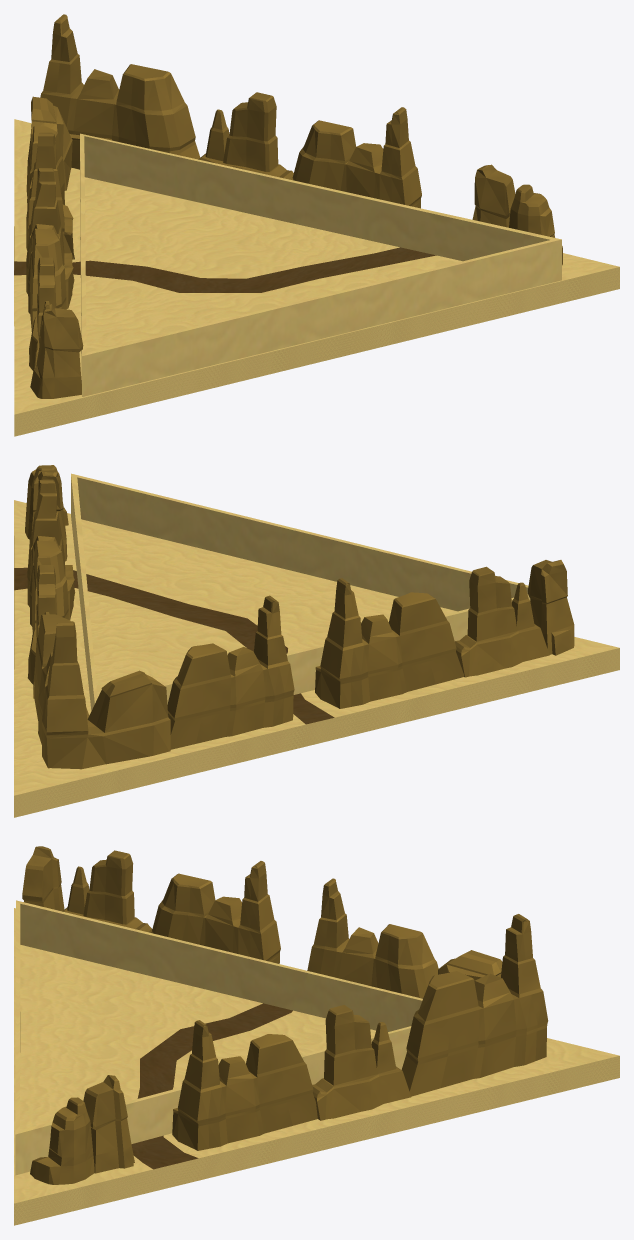
The model's file is map3.fbx.
The picture shows the model from 3 angles, top to bottom: view 1: azimuth 30°, elevation 25°; view 2: azimuth 150°, elevation 25°; view 3: azimuth 270°, elevation 25°; orthographic projection.
Parts seen in each view (by area): view 1: Ground, Wall, Mountain5, Mountain11, Mountain4, Mountain6, Mountain7, Mountain12, Mountain14, Mountain2, Mountain9; view 2: Ground, Wall, Mountain5, Mountain6, Mountain12, Mountain9, Mountain11, Mountain7, Mountain4, Mountain14, Mountain2; view 3: Ground, Wall, Mountain5, Mountain11, Mountain6, Mountain12, Mountain4, Mountain9, Mountain2, Mountain14, Mountain7.
Part boxes in pixels (x1,y1,x2,y2): Ground: (14,119,619,436); Wall: (80,133,561,396); Mountain5: (26,14,200,196); Mountain11: (292,107,421,208); Mountain4: (198,92,293,180); Mountain6: (26,168,74,331); Mountain7: (30,304,83,398); Mountain12: (26,126,74,259); Mountain14: (472,164,515,227); Mountain2: (509,184,562,265); Mountain9: (29,257,56,370); Ground: (14,500,619,817); Wall: (71,473,530,710); Mountain5: (34,614,170,769); Mountain6: (315,578,463,708); Mountain12: (167,595,294,749); Mountain9: (455,566,549,677); Mountain11: (27,479,75,632); Mountain7: (528,560,574,655); Mountain4: (27,565,56,698); Mountain14: (31,470,67,561); Mountain2: (25,465,68,539); Ground: (14,908,619,1225); Wall: (15,900,422,1175); Mountain5: (401,914,548,1096); Mountain11: (172,1020,317,1150); Mountain6: (152,861,280,963); Mountain12: (307,878,438,998); Mountain4: (312,1005,411,1120); Mountain9: (62,850,152,932); Mountain2: (30,1097,94,1184); Mountain14: (83,1075,134,1173); Mountain7: (22,846,64,911).
Size of the model in its own units: 57.26 by 14.46 by 49.59.
